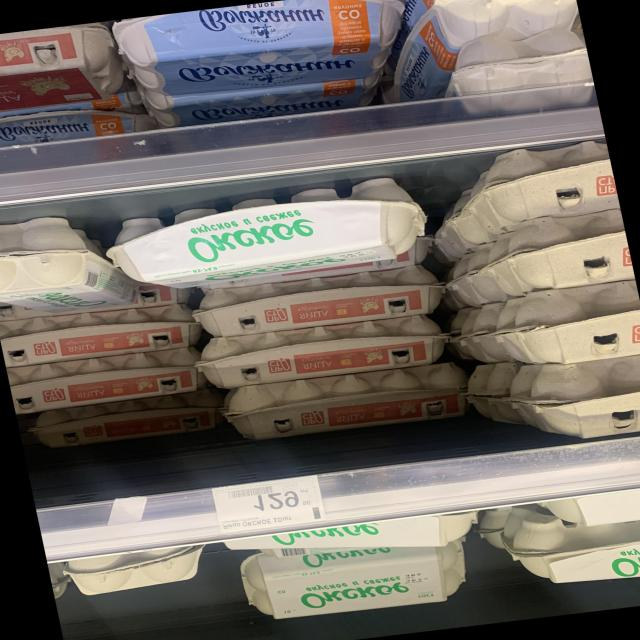organic waste: (103, 174, 435, 296), (232, 533, 478, 631), (216, 363, 479, 445), (188, 262, 450, 342), (195, 312, 457, 392), (490, 498, 639, 598), (440, 28, 598, 120), (6, 343, 203, 416), (0, 299, 196, 372), (427, 0, 583, 50)
